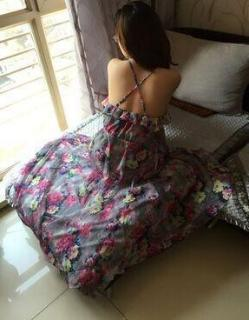sling: (6, 60, 236, 298)
